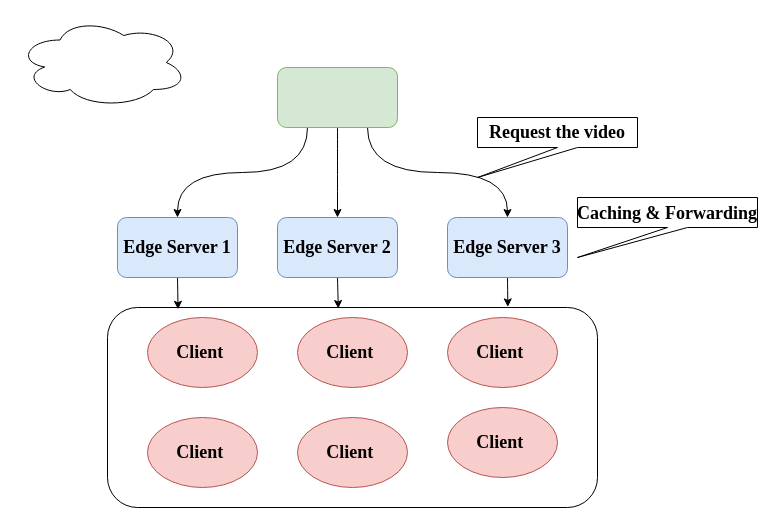
This 780x525 diagram has some shape labels left out. Here are the shapes that lost their labels. From the top down, the box of each, then its label:
(16, 16, 188, 108): Application Level Multicast
(276, 66, 398, 128): Video Source Side
